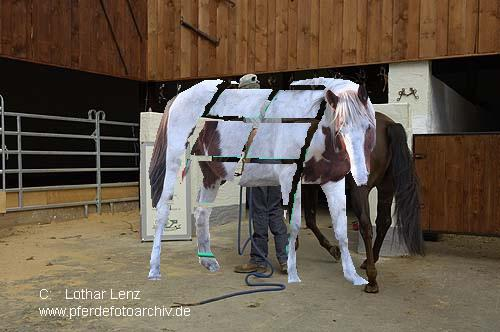tampered: (149, 78, 376, 285)
